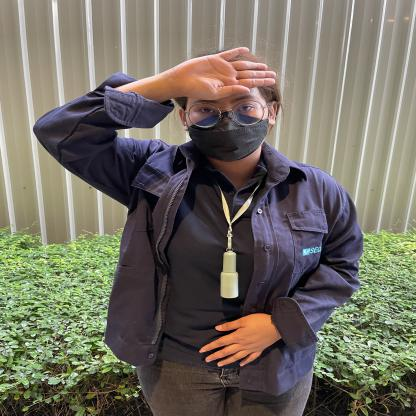Sick: (107, 36, 308, 115)
